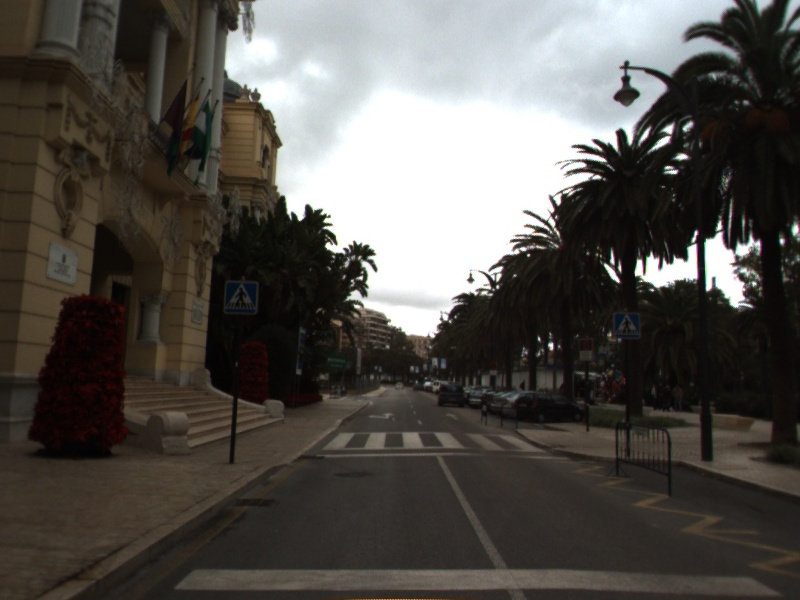STRAIGHT: (443, 411, 461, 422)
STRAIGHT_LEFT: (365, 410, 397, 422)
